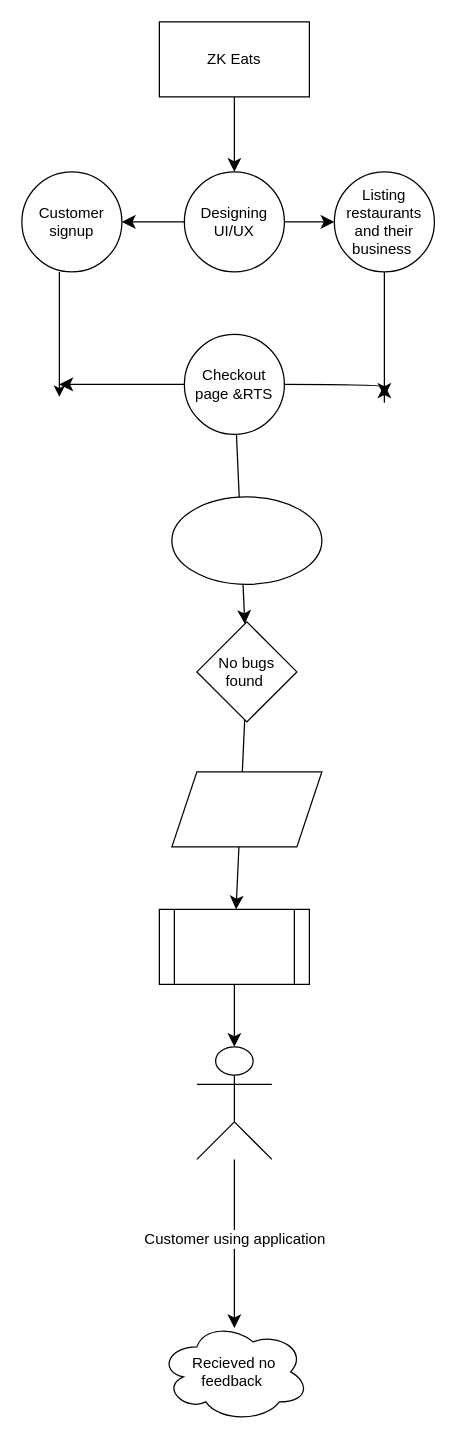
This 456x1444 diagram has some shape labels left out. Each missing label, with the box of its shape:
Compiling to apk: (171, 496, 322, 584)
Pushed to appstore: (158, 908, 309, 984)
Writing permissions for deployment: (171, 771, 322, 847)
